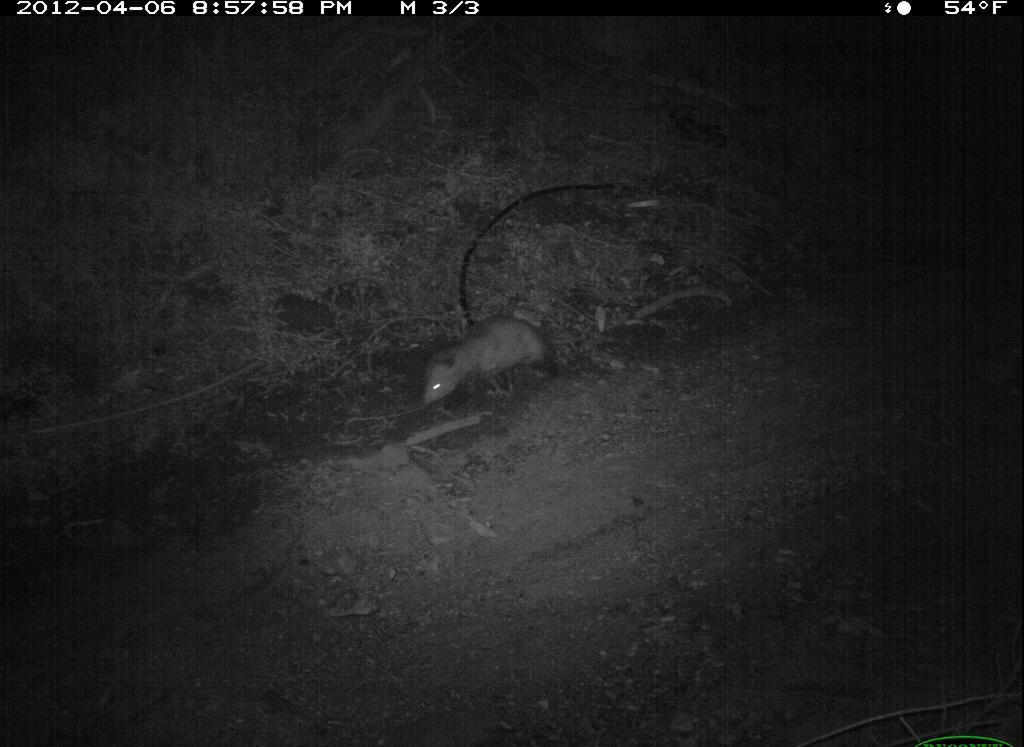opossum: (414, 306, 597, 417)
